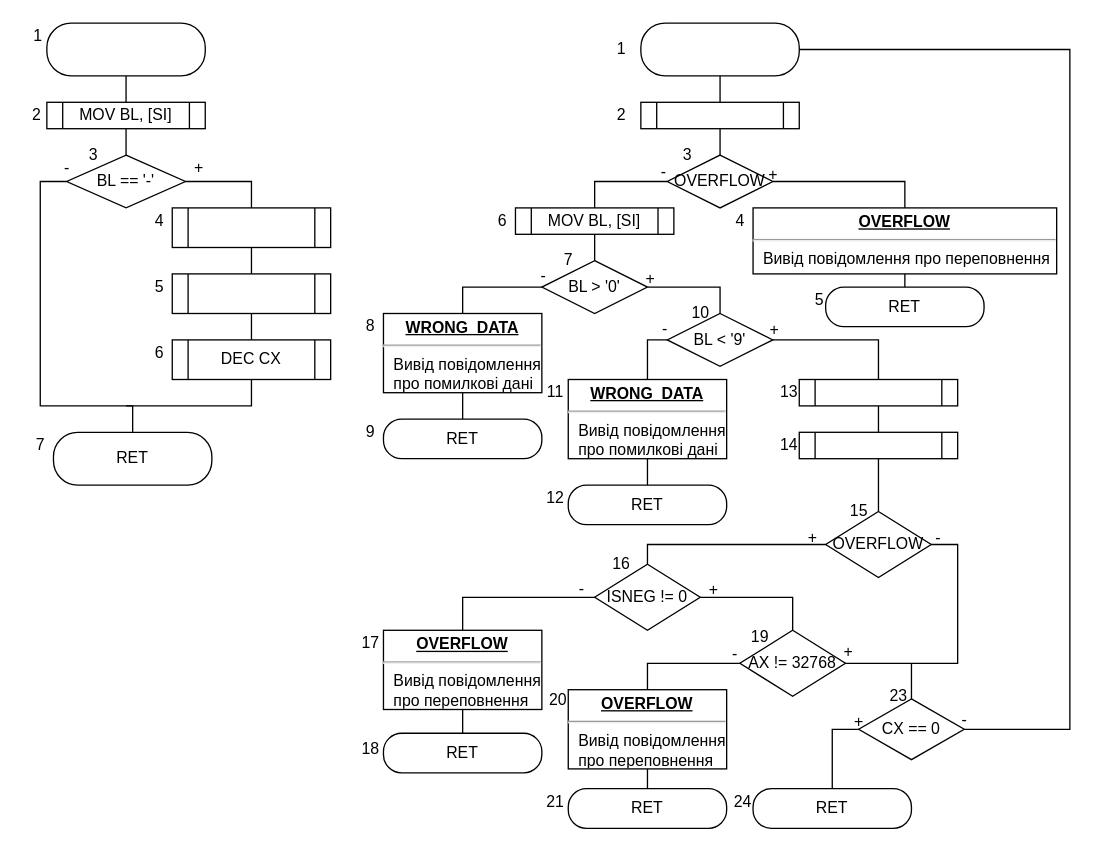
The diagram is 1094 pixels wide and 851 high, and some of its shapes have lost their labels. Each missing label, with the centre of its shape:
ADD AX, BX: (878,445)
CHECK_SIGN: (125,49)
CHECK_SYMBOLS: (719,49)
IMUL TEN: (719,115)
INC SI: (251,227)
MOV ISNEG, 1: (251,293)
SUB BL,'0': (878,392)
